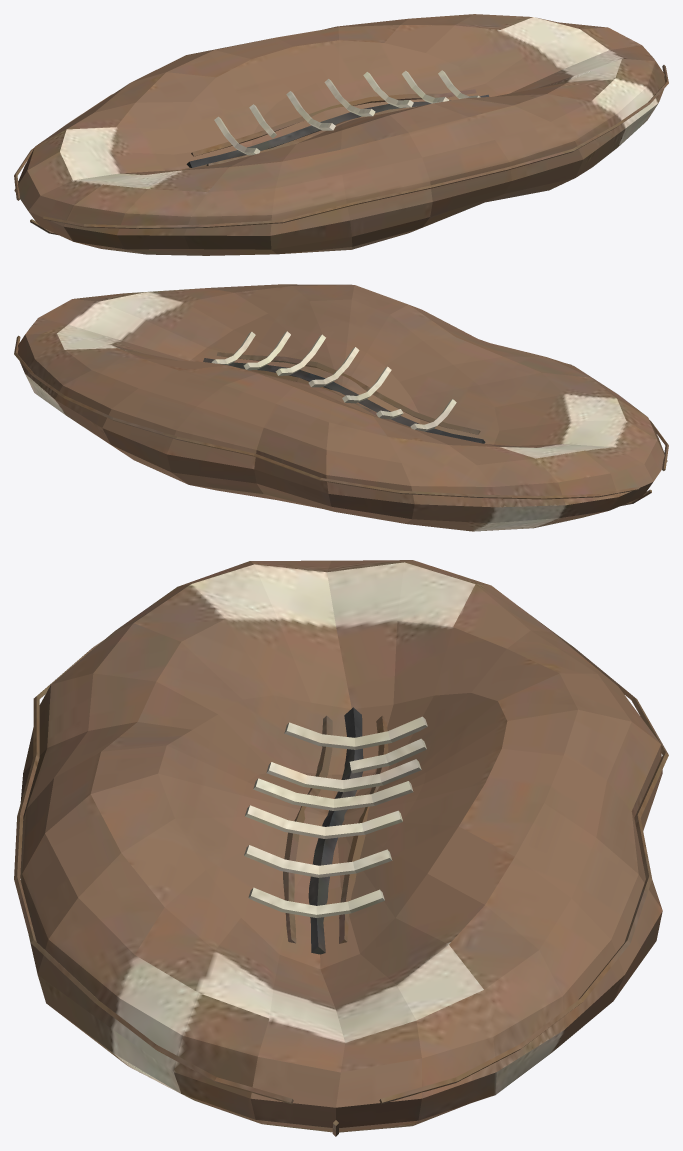
Rendered from SE04_deflated_football.glb.
3 renders of one model, top to bottom at view 1: azimuth 30°, elevation 25°; view 2: azimuth 150°, elevation 25°; view 3: azimuth 270°, elevation 25°, orthographic. The views are drawn at different scales.
Parts seen in each view (by area): view 1: Deflated leather football; view 2: Deflated leather football; view 3: Deflated leather football.
Boxes of the visible parts, <box> form: Deflated leather football: <box>14,14,668,255</box>; Deflated leather football: <box>14,284,668,531</box>; Deflated leather football: <box>14,560,668,1136</box>.
Bounding box in the file's own units: 0.3 × 0.0564 × 0.1562.
Materials: 4 (4 with a texture image).
